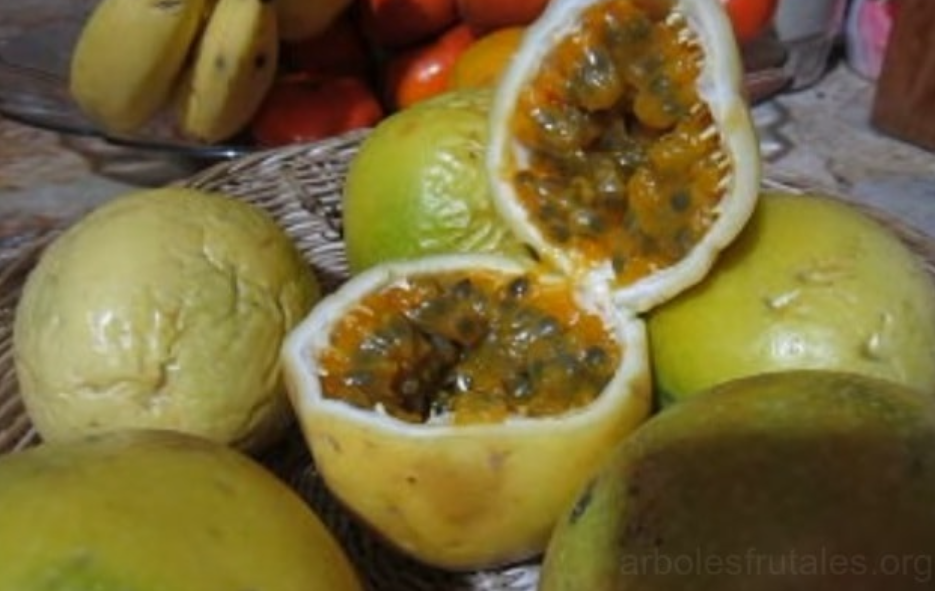maracuya: (9, 179, 340, 458)
